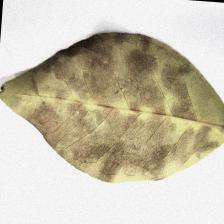black spot: (48, 71, 186, 156)
